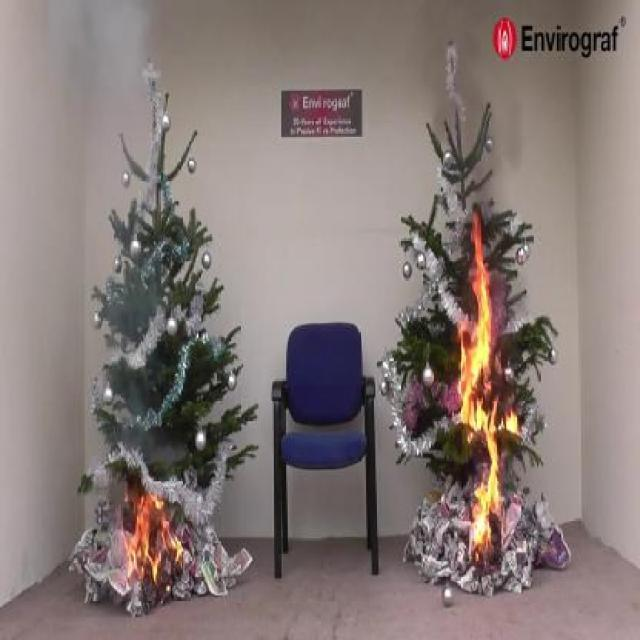fire: (438, 238, 514, 556), (104, 412, 180, 590)
smoke: (63, 26, 205, 426), (431, 61, 518, 176)
